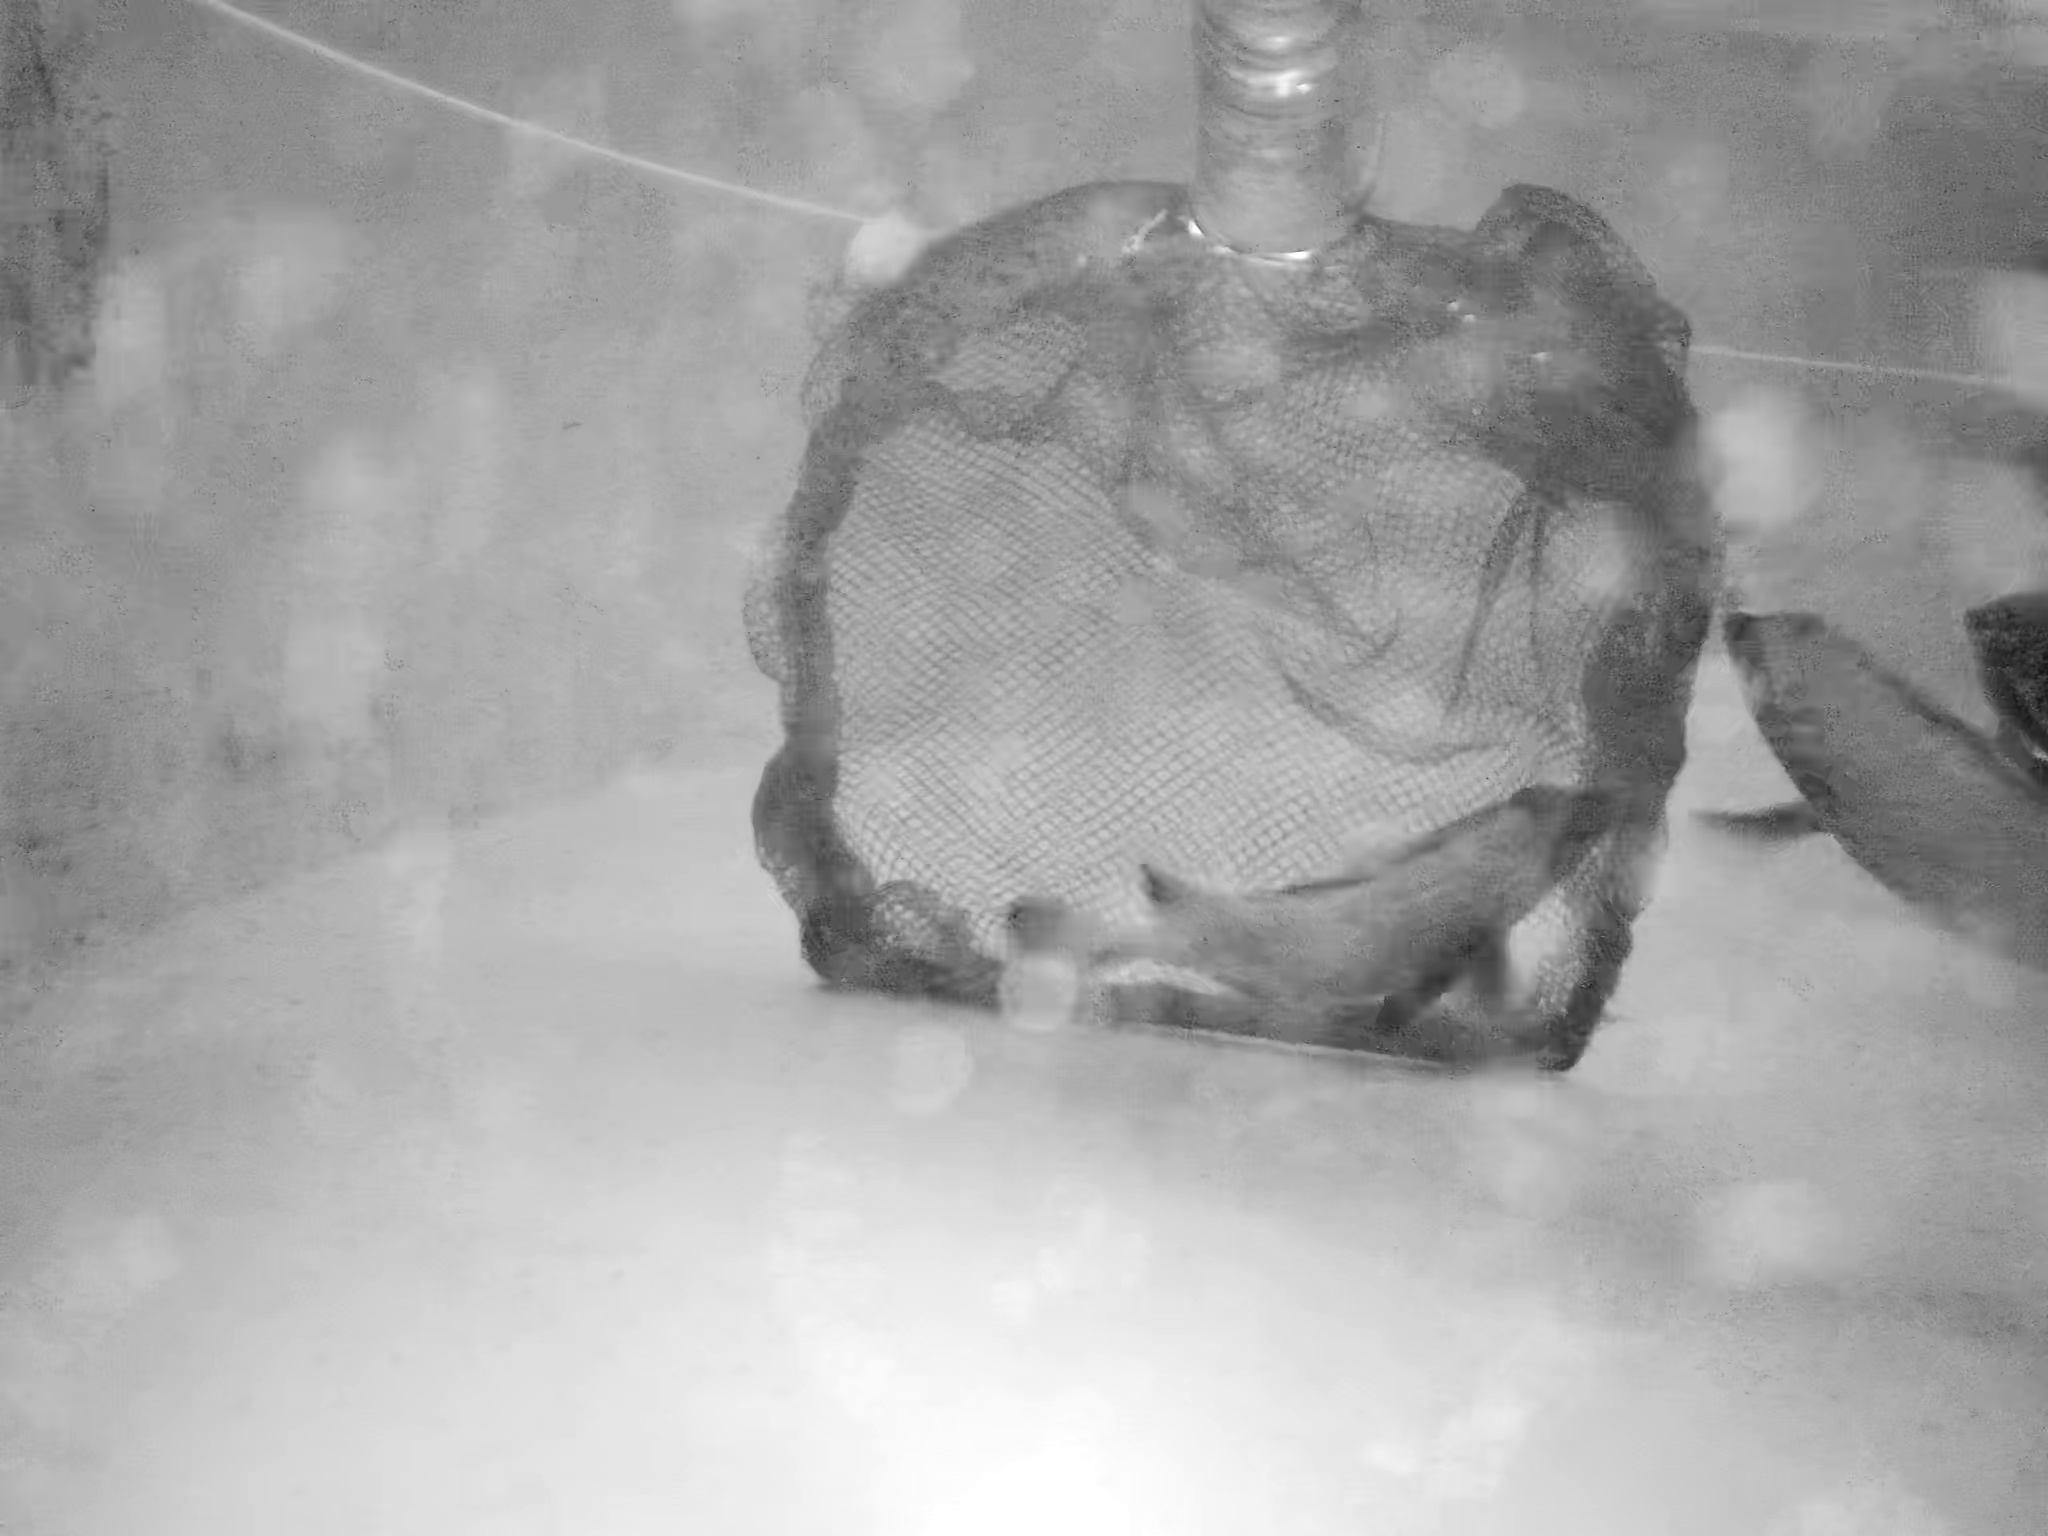fish: (1095, 742, 1605, 1071), (1705, 566, 2048, 1025)
